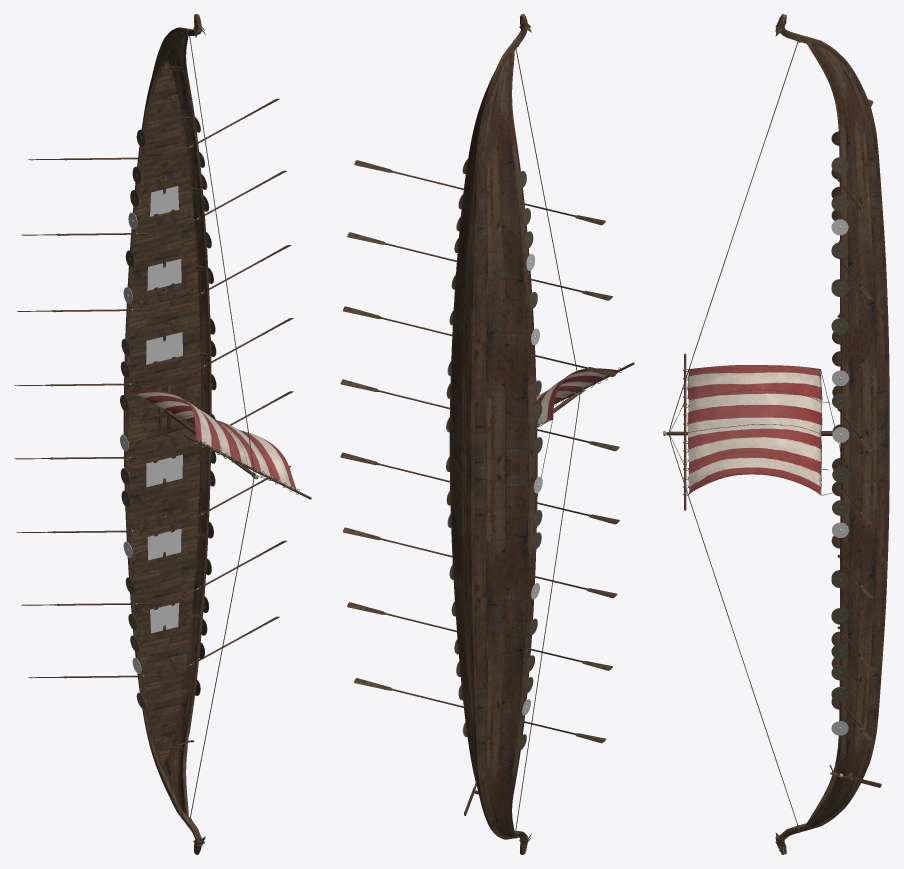
Rendered from VikingShip.fbx.
3 renders of one model, left to right at view 1: azimuth 30°, elevation 25°; view 2: azimuth 150°, elevation 25°; view 3: azimuth 270°, elevation 25°, orthographic.
Parts seen in each view (by area): view 1: MainDeck, MainHull, MainSail, MainMast, MainKeel; view 2: MainHull, MainKeel, MainSail, MainMast; view 3: MainHull, MainSail, MainKeel, MainMast.
Part boxes in pixels (left/top/right/bottom): MainDeck: left=127, top=58, right=201, bottom=760; MainHull: left=123, top=31, right=211, bottom=821; MainSail: left=129, top=389, right=311, bottom=499; MainMast: left=163, top=28, right=258, bottom=826; MainKeel: left=127, top=14, right=207, bottom=854; MainHull: left=449, top=46, right=537, bottom=836; MainKeel: left=468, top=14, right=531, bottom=854; MainSail: left=536, top=362, right=634, bottom=427; MainMast: left=513, top=39, right=584, bottom=838; MainHull: left=804, top=39, right=884, bottom=829; MainSail: left=670, top=353, right=822, bottom=510; MainKeel: left=775, top=14, right=889, bottom=854; MainMast: left=663, top=34, right=833, bottom=832.
Size of what is drawn, in the model's own units: 7.85 by 5.54 by 22.69.
